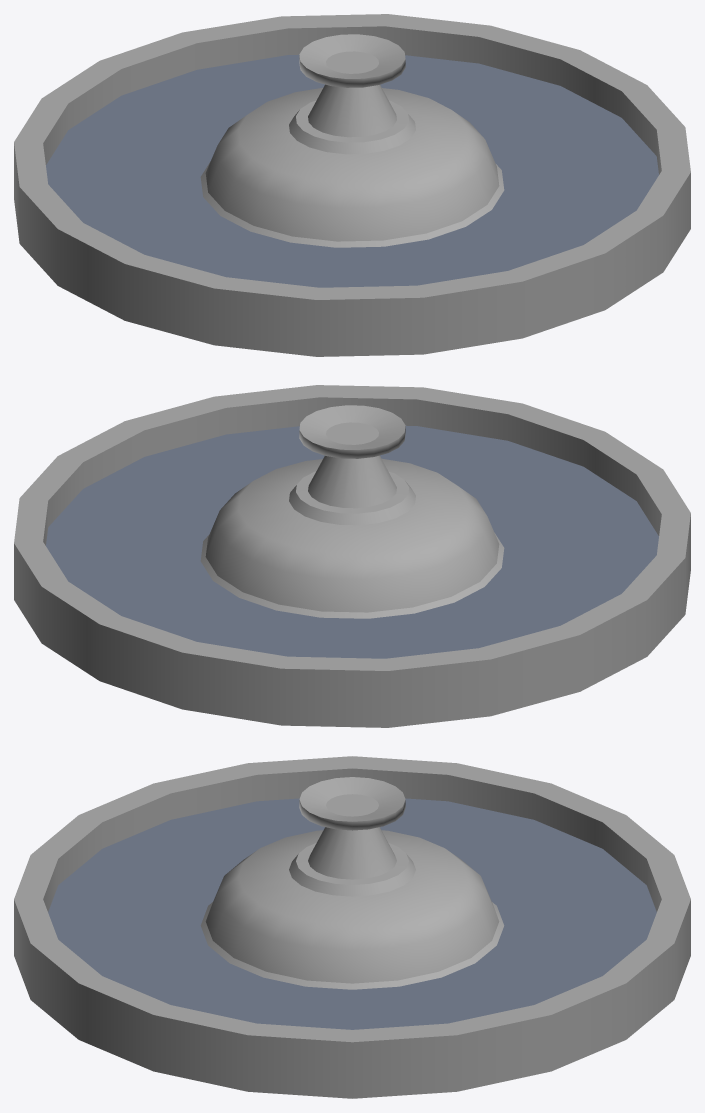
The model's file is fountain.fbx.
3 renders of one model, top to bottom at view 1: azimuth 30°, elevation 25°; view 2: azimuth 150°, elevation 25°; view 3: azimuth 270°, elevation 25°, orthographic.
Parts seen in each view (by area): view 1: pCylinder1; view 2: pCylinder1; view 3: pCylinder1.
Boxes of the visible parts, bbox=[...] form: pCylinder1: bbox=[14, 14, 690, 356]; pCylinder1: bbox=[14, 385, 690, 727]; pCylinder1: bbox=[14, 756, 690, 1098].
Size of the model in its own units: 105 by 105 by 26.88.
